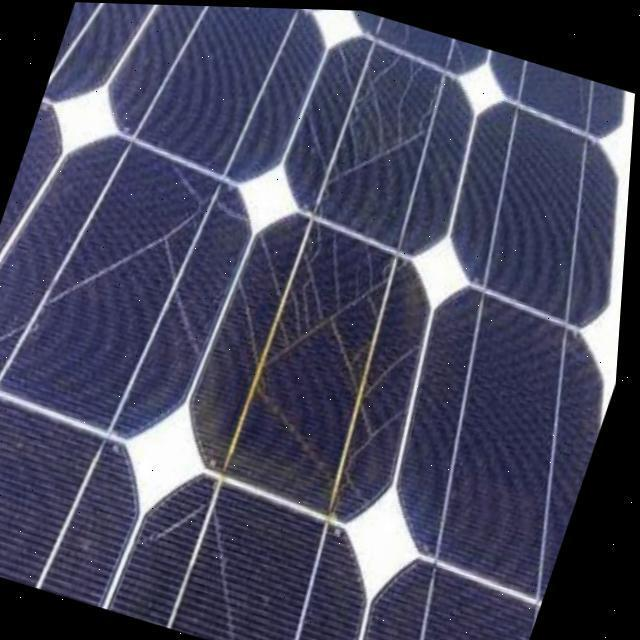Anomaly Solar Panel: (0, 2, 636, 640)
Structural Damage: (50, 141, 261, 353), (264, 219, 409, 394), (293, 38, 462, 186), (340, 395, 432, 503), (217, 503, 252, 640), (149, 498, 218, 548), (366, 339, 425, 396), (334, 315, 370, 392), (243, 277, 270, 364), (263, 229, 289, 293), (373, 47, 407, 81), (337, 42, 356, 84), (0, 322, 36, 344), (364, 399, 382, 432)
